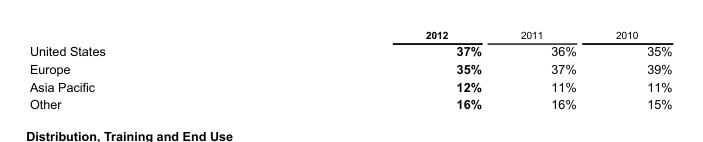table: (28, 29, 671, 111)
table column: (28, 29, 264, 111), (264, 29, 500, 111), (500, 29, 595, 111), (595, 29, 671, 111)
table column header: (28, 29, 671, 42)
table row: (28, 59, 671, 77), (28, 77, 671, 95), (28, 42, 671, 59), (28, 95, 671, 111), (28, 29, 671, 42)
